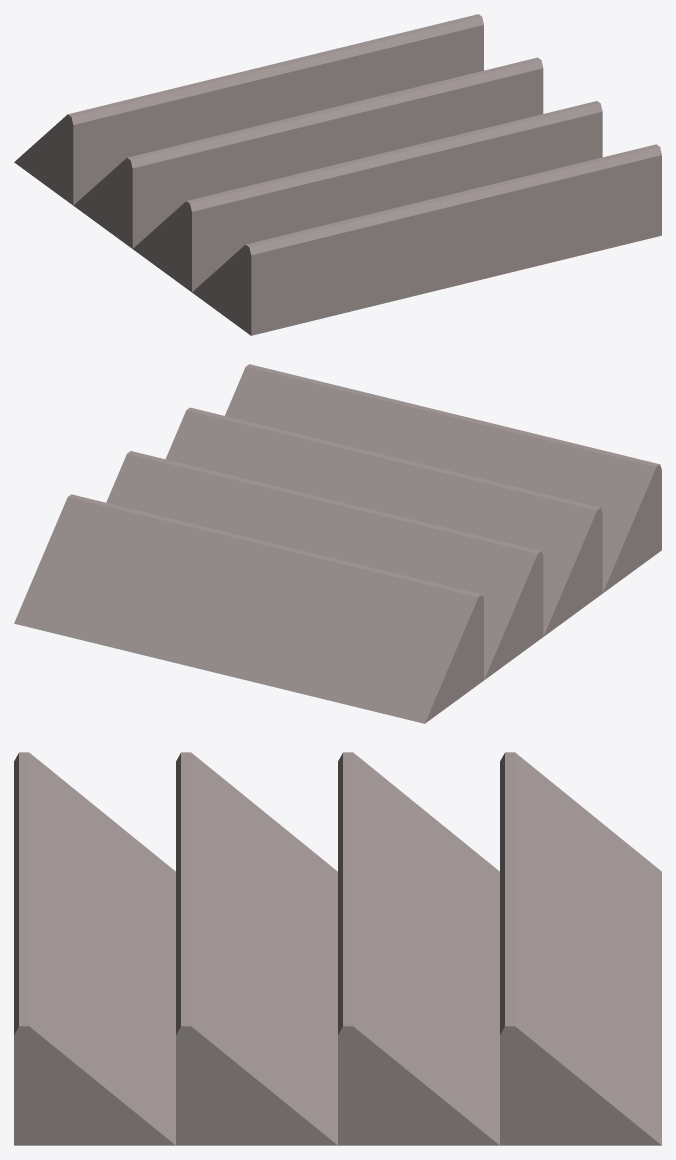
The picture shows the model from 3 angles, top to bottom: view 1: azimuth 30°, elevation 25°; view 2: azimuth 150°, elevation 25°; view 3: azimuth 270°, elevation 25°; orthographic projection. The views are drawn at different scales.
Bounding box in the file's own units: 128 × 26 × 128.
1 material, 1 textured.
